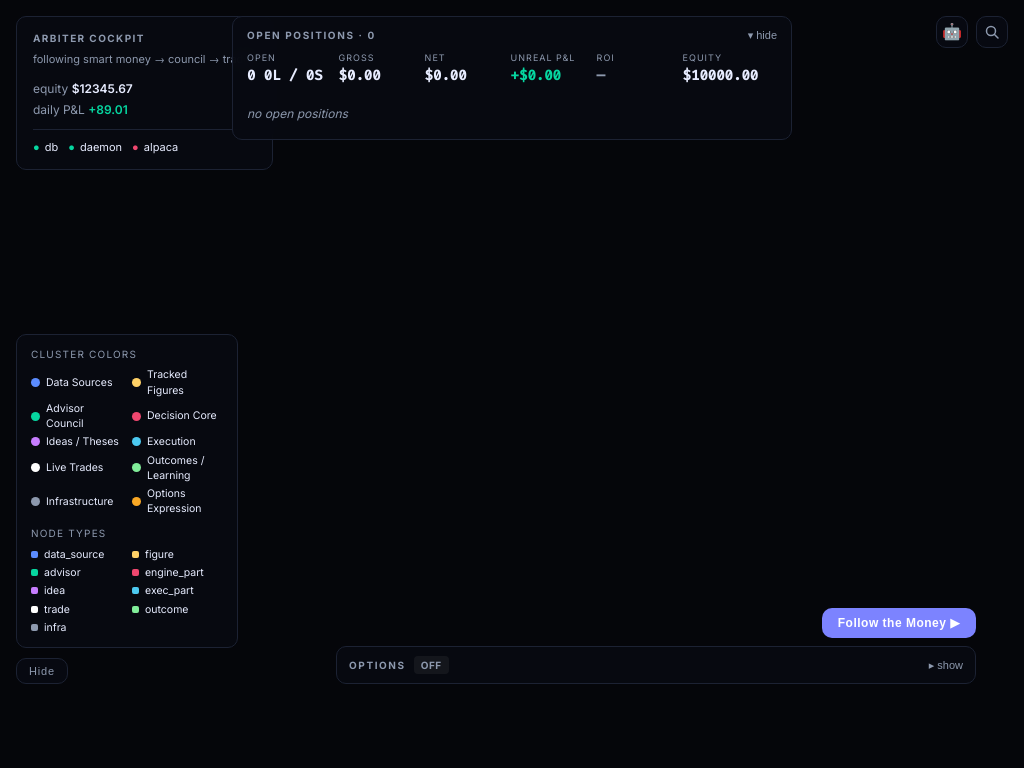
Test: Legend › legend toggles hidden on button click
Click the button "Hide" at [42, 671], box [16,658,68,684]
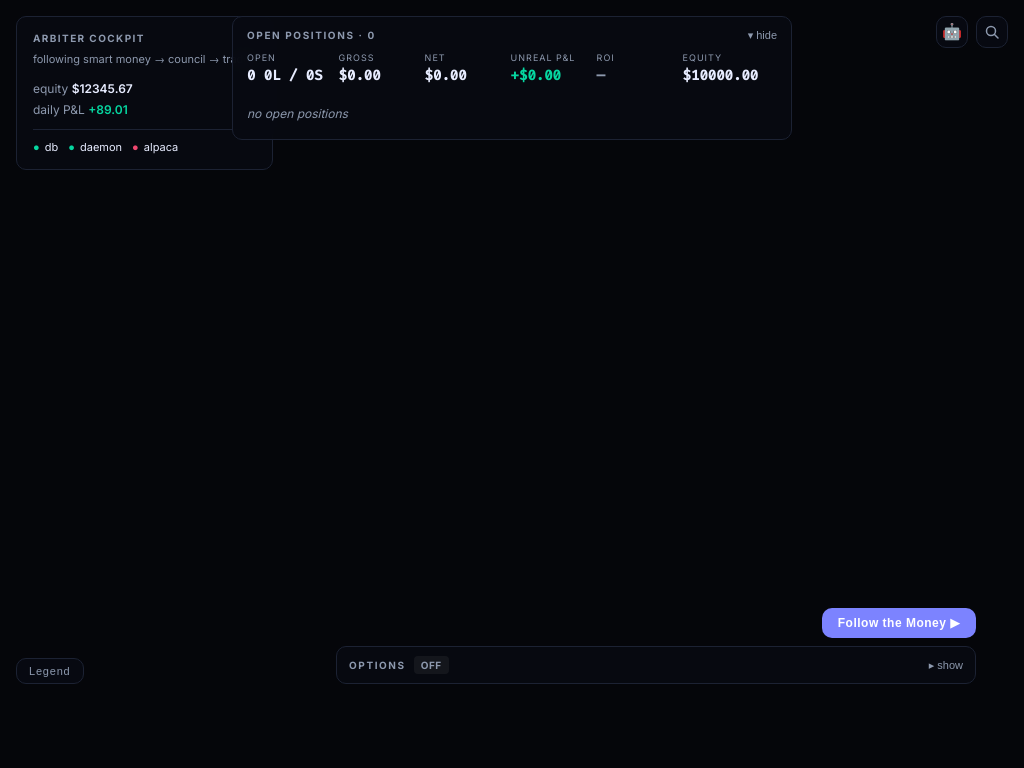
Expected: the element with test id "legend" is gone
